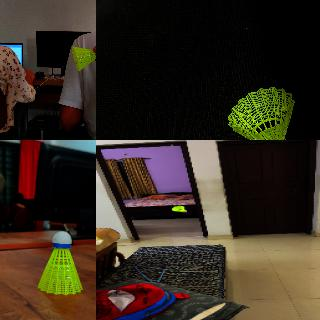shuttlecock: (228, 86, 295, 139), (36, 230, 82, 294), (71, 46, 95, 71), (172, 205, 187, 212)
